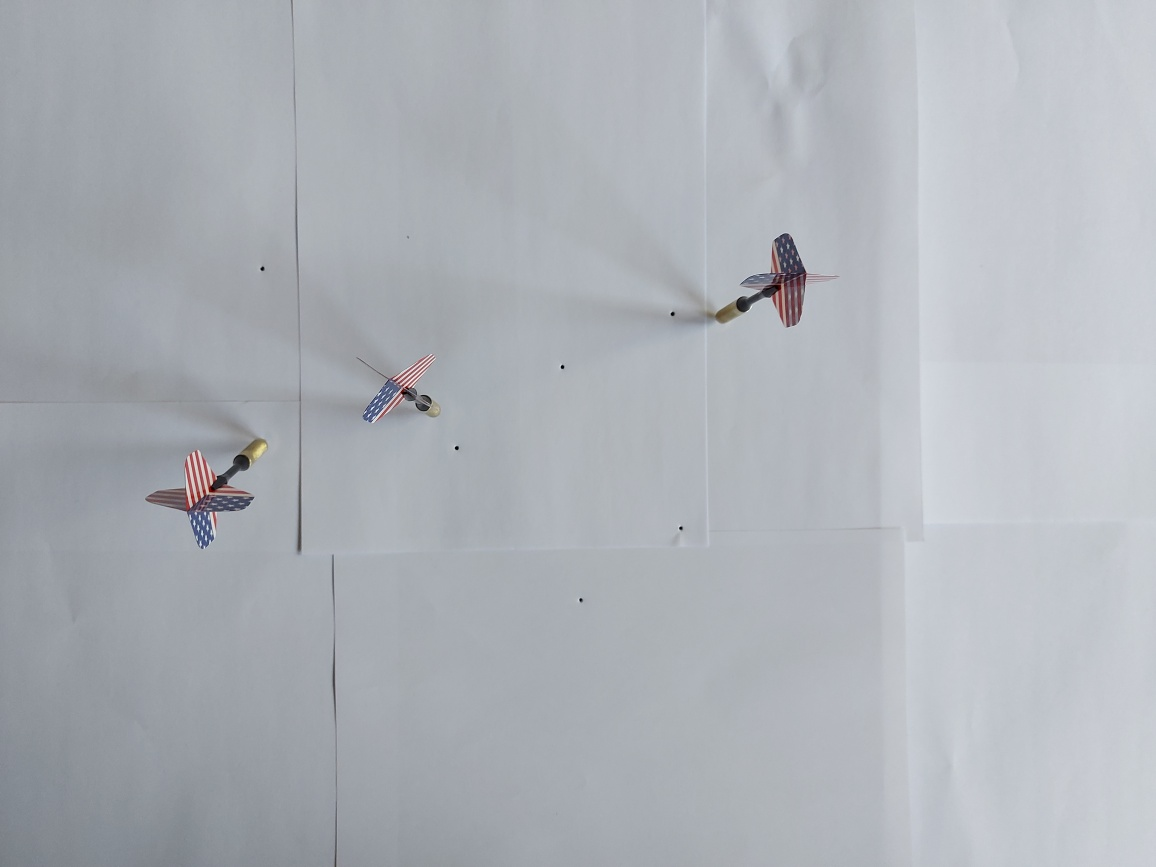Dart: (141, 420, 276, 554), (707, 227, 846, 339), (345, 346, 451, 437)
